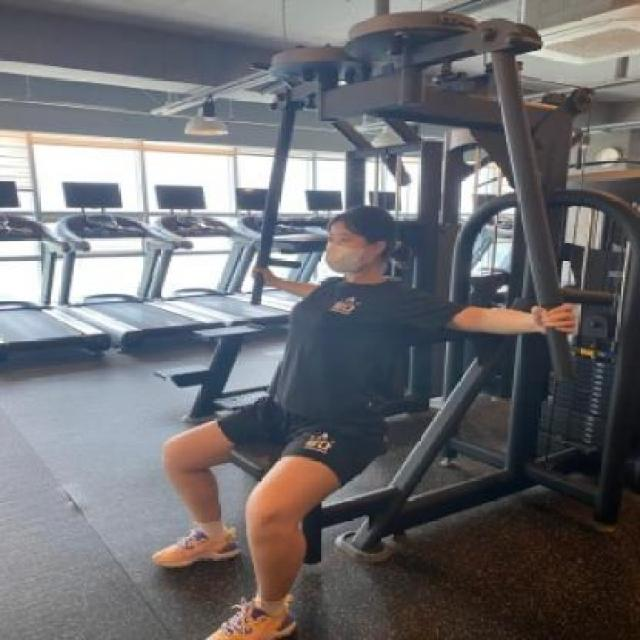chest fly machine: (83, 6, 639, 640)
